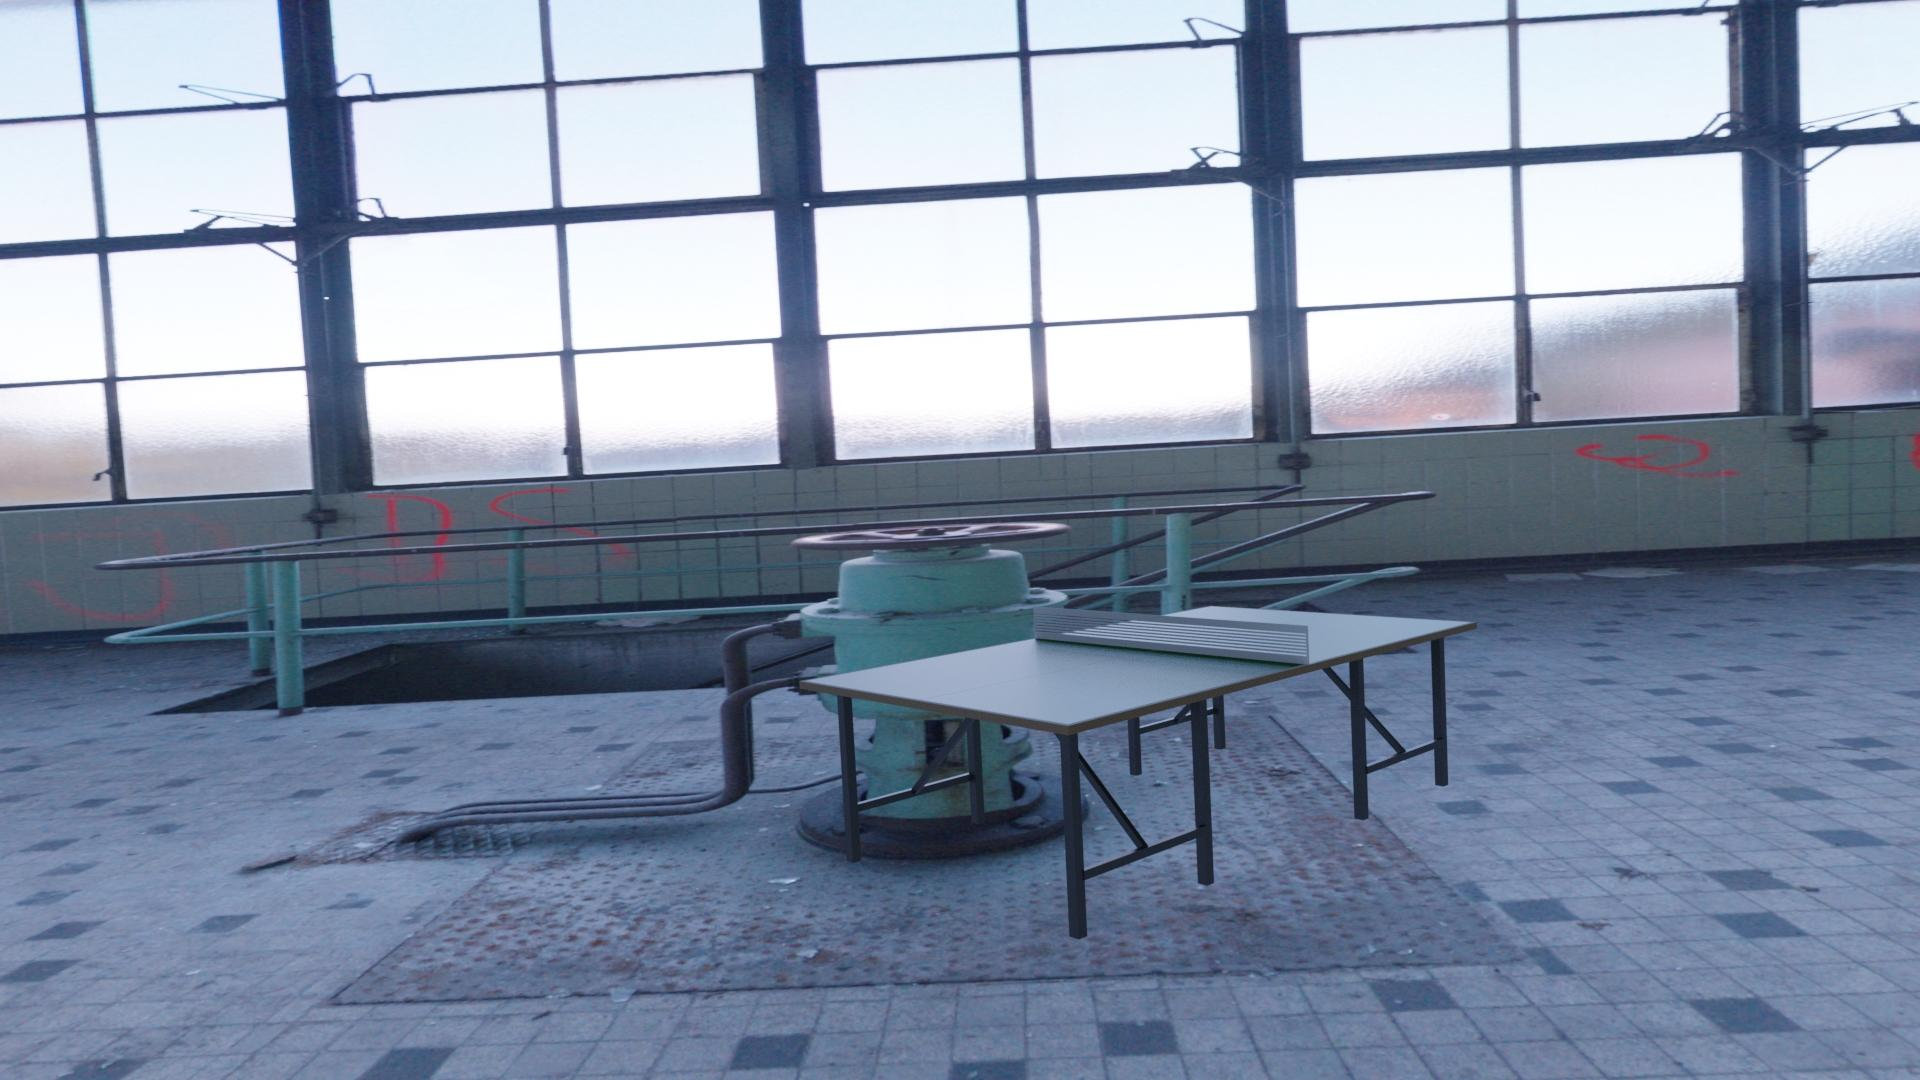table: (806, 607, 1470, 724)
